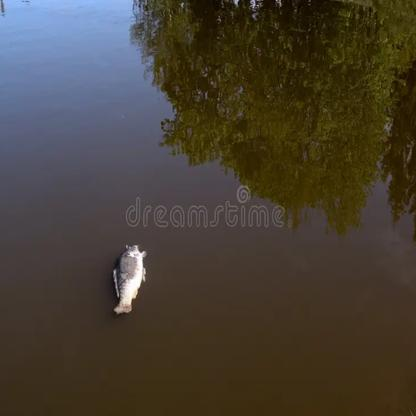deceased fish: (114, 244, 147, 314)
